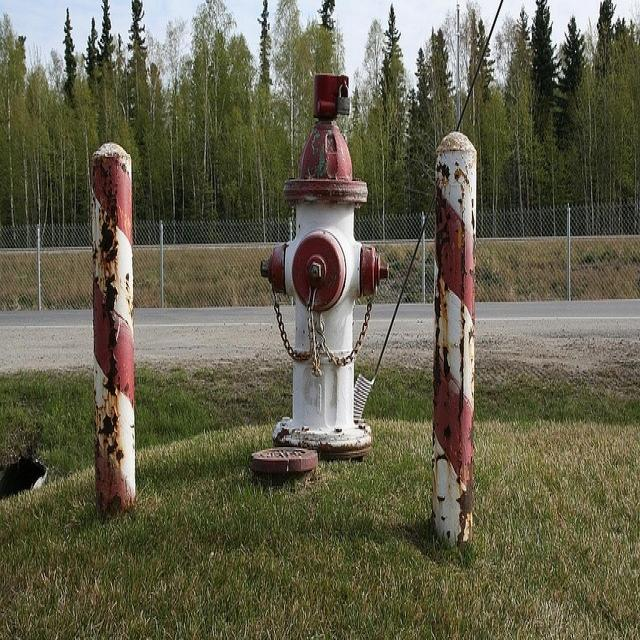fire_hydrant: (268, 55, 379, 532)
